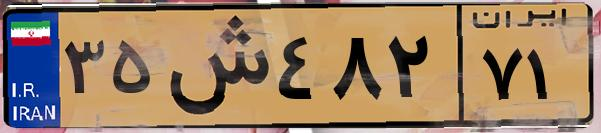1: (525, 38, 570, 115)
2: (385, 28, 445, 110)
3: (57, 26, 110, 100)
4: (270, 28, 330, 110)
5: (110, 28, 158, 98)
7: (475, 38, 525, 113)
8: (330, 28, 385, 110)
ش: (158, 12, 270, 120)
